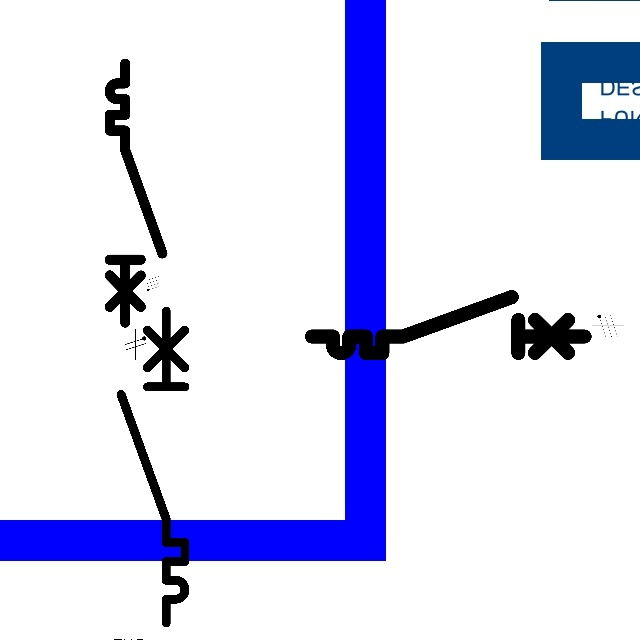interruptor_termomagnetico: (113, 303, 193, 631), (305, 290, 591, 360), (103, 57, 169, 329)
